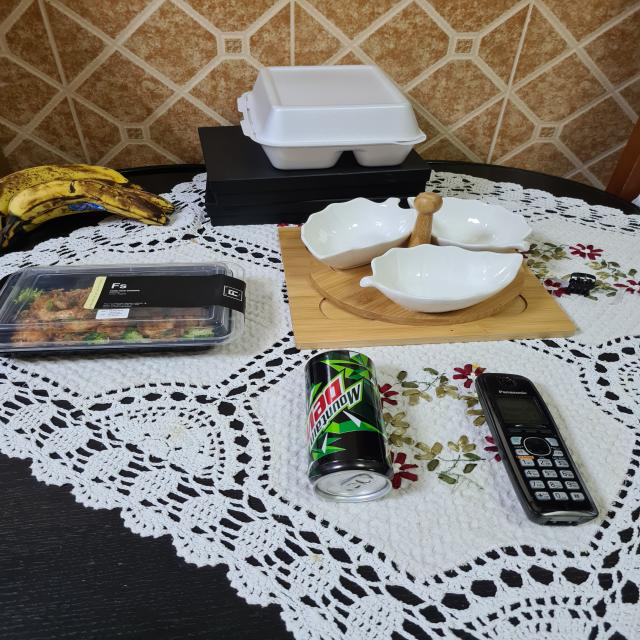non-organic waste: (306, 346, 396, 504)
